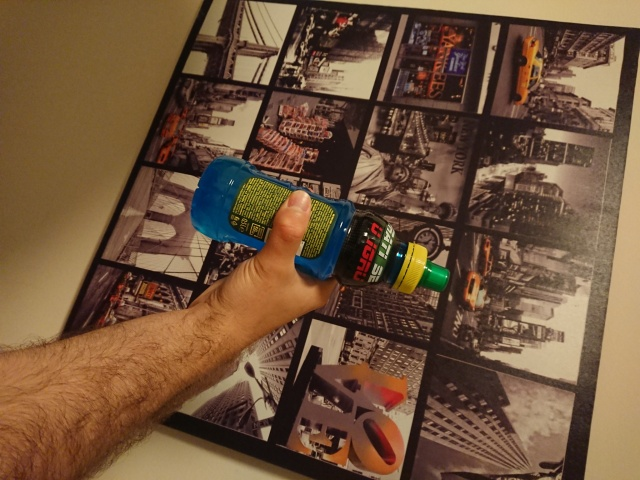Vindi Iso Sport Forest Strawberries 500mL: (188, 154, 453, 296)
